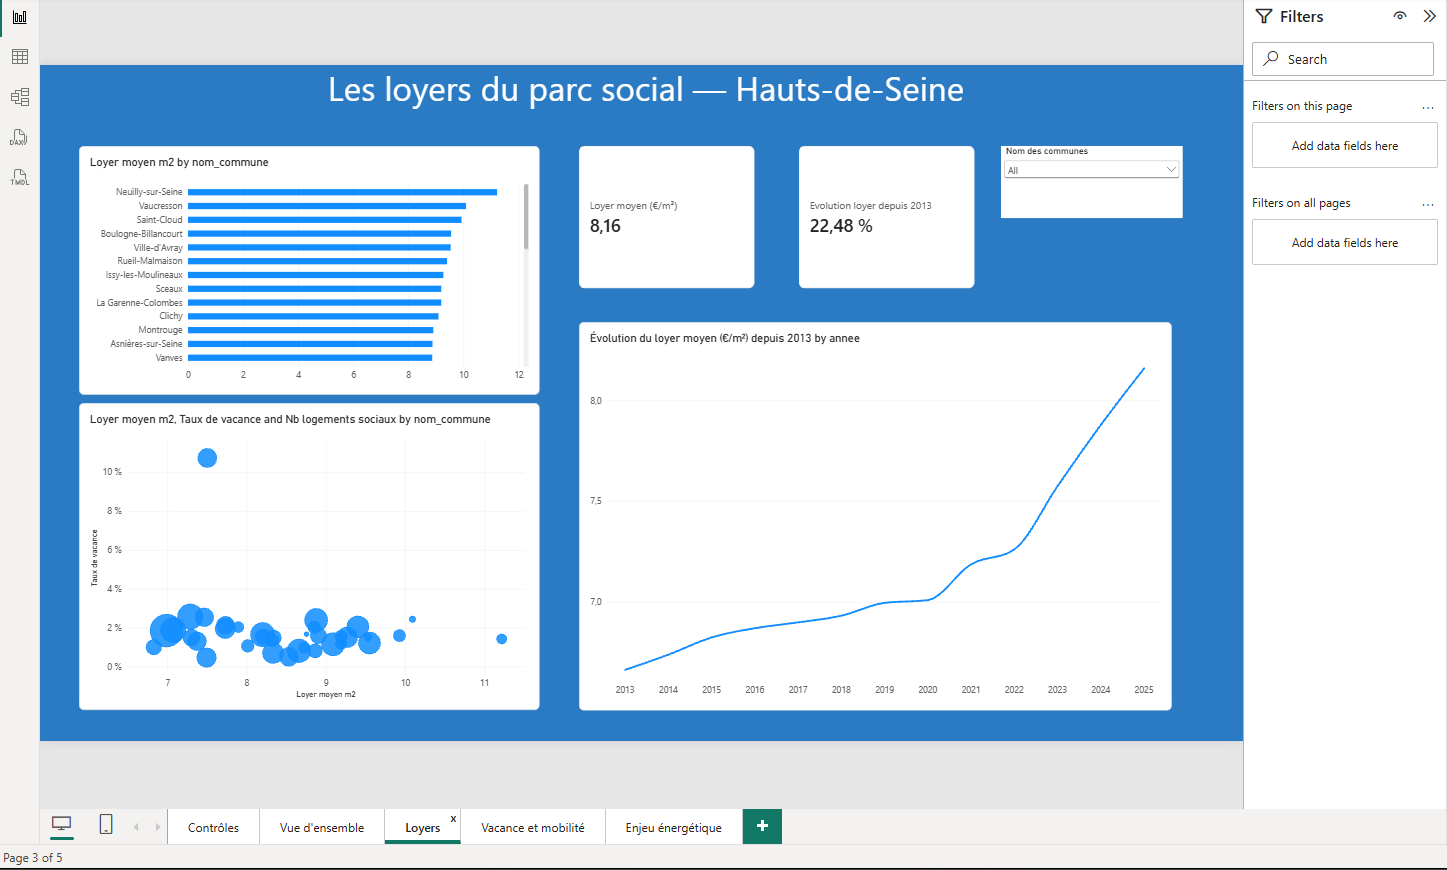

Layout of this report page (visuals, bound fields, positions):
{"tool":"powerbi","page":{"name":"Loyers","canvas":[1920,1080],"ordinal":2},"visuals":[{"type":"clusteredBarChart","fields":{"Category":["dim_commune.nom_commune"],"Y":["_Mesures.Loyer moyen m2"]},"box":[61.7,130,734.5,396.7],"z":0},{"type":"lineChart","fields":{"Category":["dim_annee.annee"],"Y":["_Mesures.Loyer moyen m2 (historique)"]},"box":[860,410.4,946.5,619.8],"z":1000},{"type":"scatterChart","fields":{"Category":["dim_commune.nom_commune"],"Size":["_Mesures.Nb logements sociaux"],"X":["_Mesures.Loyer moyen m2"],"Y":["_Mesures.Taux de vacance"]},"box":[61.7,539.5,735,490],"z":2000},{"type":"slicer","fields":{"Values":["dim_commune.nom_commune"]},"box":[1534,130,290,114.7],"z":3000},{"type":"textbox","box":[0,0,1920,118.1],"z":4000},{"type":"cardVisual","title":"Loyer moyen (€/m²)","fields":{"Data":["_Mesures.Loyer moyen m2"]},"box":[860,130,280.4,227.9],"z":5000},{"type":"cardVisual","title":"Loyer moyen (€/m²)","fields":{"Data":["_Mesures.Evolution loyer depuis 2013"]},"box":[1212.1,130,280.4,227.9],"z":6000}]}

Visuals, with their boxes on the page's 1920x1080 design canvas (x1, y1, x2, y2). These are canvas units, not pixel positions in the 1447x870 screenshot, which may show the page scaled, cropped or inside an application window:
clusteredBarChart - dim_commune.nom_commune x _Mesures.Loyer moyen m2: (left=62, top=130, right=796, bottom=527)
lineChart - dim_annee.annee x _Mesures.Loyer moyen m2 (historique): (left=860, top=410, right=1806, bottom=1030)
scatterChart - dim_commune.nom_commune x _Mesures.Nb logements sociaux: (left=62, top=540, right=797, bottom=1030)
slicer - dim_commune.nom_commune: (left=1534, top=130, right=1824, bottom=245)
textbox: (left=0, top=0, right=1920, bottom=118)
"Loyer moyen (€/m²)" cardVisual: (left=860, top=130, right=1140, bottom=358)
"Loyer moyen (€/m²)" cardVisual: (left=1212, top=130, right=1492, bottom=358)
